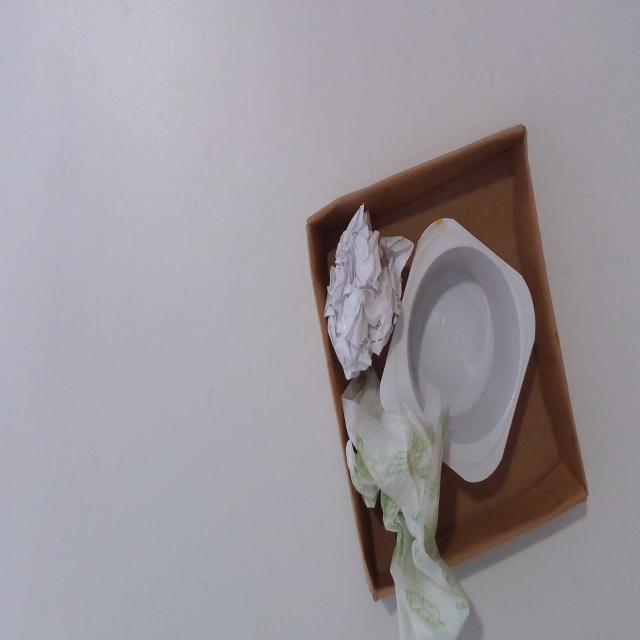Paper: (344, 387, 489, 636), (326, 201, 411, 383)
Plastic: (379, 212, 539, 478)
